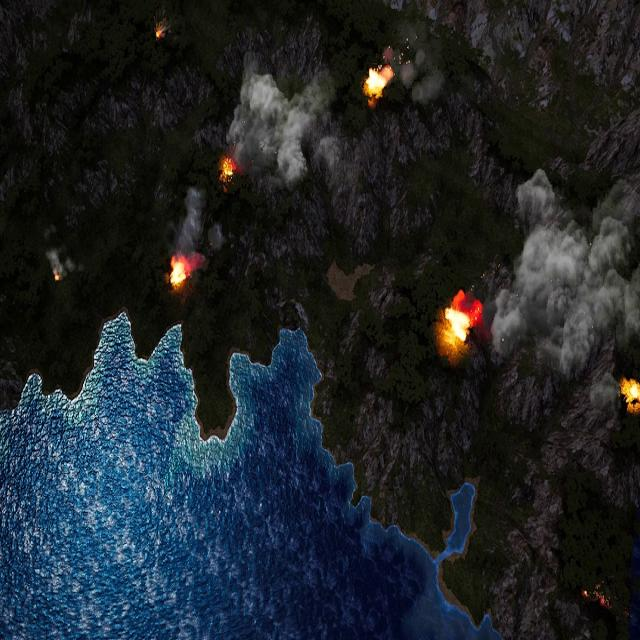fire: (442, 300, 472, 347), (363, 62, 392, 102), (168, 259, 190, 290), (219, 156, 238, 187), (622, 378, 640, 408)
smoke: (473, 163, 639, 411), (226, 62, 363, 192), (176, 185, 227, 258), (46, 224, 76, 280)
